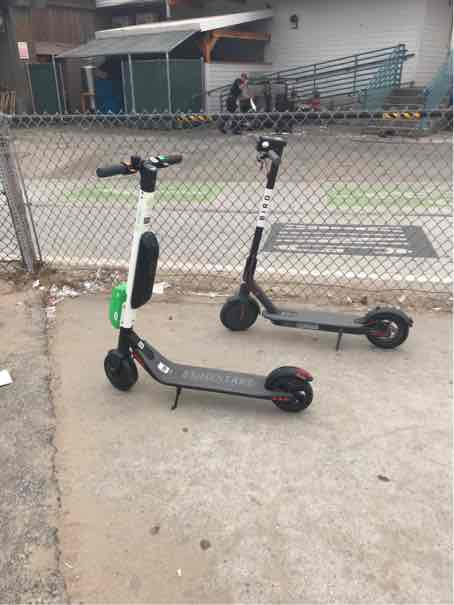scooter: (92, 138, 323, 414), (206, 104, 428, 357)
